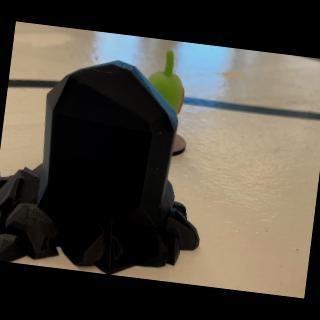teletubby: (148, 50, 184, 114)
